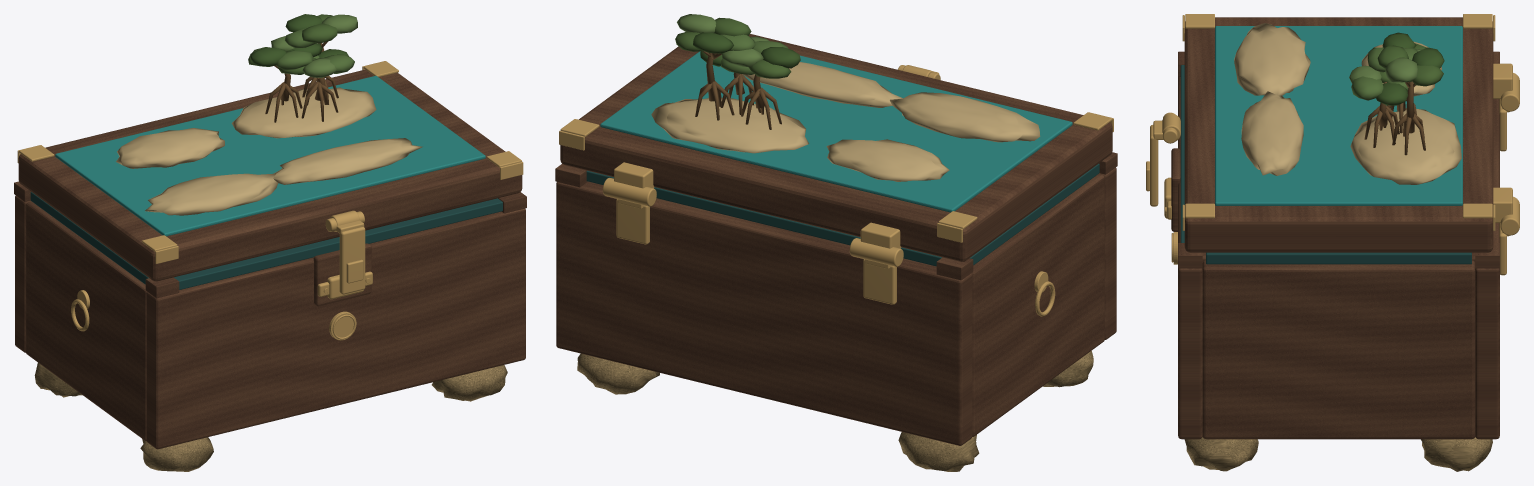
File: guinea-bissau.glb
3 views of the same model, side by side, from view 1: azimuth 30°, elevation 25°; view 2: azimuth 150°, elevation 25°; view 3: azimuth 270°, elevation 25° (orthographic). The views are drawn at different scales.
Parts seen in each view (by area): view 1: Estuary / wall, Lid / polished slab, Delta / lagoon, Estuary / end, Delta / island 0, Mineral seam / long, Delta / island 2, Delta / island 3, Delta / island 1, Granite foot, Granite foot.002, Estuary / wall.001 (+9 smaller); view 2: Estuary / wall.001, Lid / polished slab, Estuary / end, Delta / lagoon, Delta / island 0, Delta / island 2, Delta / island 1, Delta / island 3, Mineral seam / long.001, Estuary / wall, Granite foot.001, Granite foot.003 (+12 smaller); view 3: Estuary / end.001, Lid / polished slab, Delta / lagoon, Delta / island 0, Estuary / wall.001, Estuary / wall, Delta / island 2, Delta / island 3, Mineral seam / side.001, Granite foot.002, Granite foot.003, Mineral seam / long (+19 smaller).
Part boxes in pixels (box(x1,y1,x2,y2)): Estuary / wall: box(146, 208, 525, 449); Lid / polished slab: box(18, 69, 522, 281); Delta / lagoon: box(55, 75, 485, 236); Estuary / end: box(26, 201, 147, 441); Delta / island 0: box(231, 87, 376, 138); Mineral seam / long: box(174, 198, 502, 289); Delta / island 2: box(145, 173, 278, 215); Delta / island 3: box(273, 138, 422, 184); Delta / island 1: box(116, 128, 224, 168); Granite foot: box(140, 437, 213, 471); Granite foot.002: box(431, 365, 507, 401); Estuary / wall.001: box(15, 195, 31, 352); Estuary / wall.001: box(556, 181, 972, 445); Lid / polished slab: box(560, 34, 1112, 261); Estuary / end: box(971, 174, 1104, 436); Delta / lagoon: box(600, 51, 1072, 212); Delta / island 0: box(651, 97, 808, 153); Delta / island 2: box(890, 92, 1040, 142); Delta / island 1: box(826, 139, 949, 181); Delta / island 3: box(742, 62, 902, 107); Mineral seam / long.001: box(586, 170, 941, 266); Estuary / wall: box(1098, 167, 1116, 339); Granite foot.001: box(898, 432, 979, 471); Granite foot.003: box(577, 353, 659, 394); Estuary / end.001: box(1202, 260, 1475, 439); Lid / polished slab: box(1184, 17, 1493, 252); Delta / lagoon: box(1215, 26, 1462, 205); Delta / island 0: box(1350, 108, 1461, 184); Estuary / wall.001: box(1475, 99, 1499, 439); Estuary / wall: box(1178, 77, 1202, 439); Delta / island 2: box(1234, 23, 1310, 95); Delta / island 3: box(1241, 91, 1303, 175); Mineral seam / side.001: box(1206, 252, 1471, 264); Granite foot.002: box(1184, 437, 1258, 471); Granite foot.003: box(1421, 437, 1492, 471); Mineral seam / long: box(1180, 65, 1184, 242).
Size of the model in its own units: 3.79 by 3.2 by 2.88.
11 materials, 2 textured.
